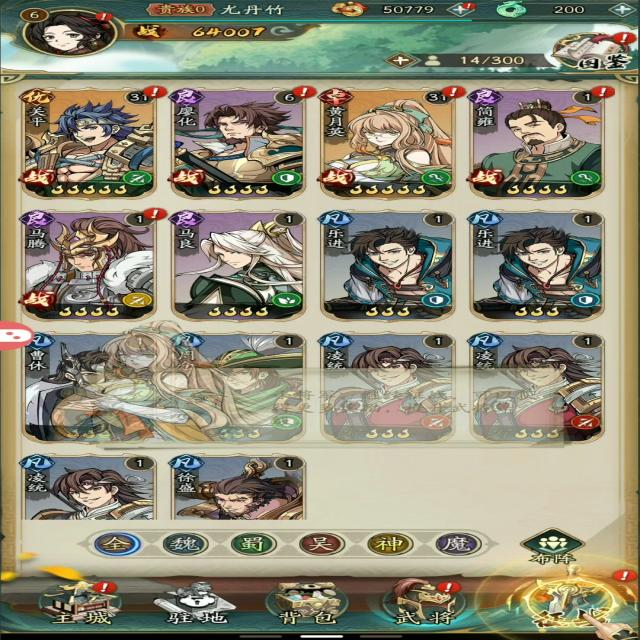hint-guide: (107, 336, 580, 445)
hint-reddot: (442, 0, 480, 15), (607, 567, 640, 584), (584, 85, 619, 101), (429, 581, 466, 596), (141, 206, 173, 222), (290, 86, 320, 100), (439, 86, 468, 100), (612, 31, 639, 46), (90, 581, 118, 595), (141, 86, 168, 100), (88, 10, 117, 22)
navigation-bag: (256, 577, 366, 627)
navigation-fight: (508, 573, 638, 633)
navigation-hero: (381, 572, 479, 628)
navigation-main: (30, 576, 133, 625)
navigation-myHeroes: (167, 86, 309, 202), (20, 86, 160, 201), (167, 212, 308, 326), (469, 87, 609, 201), (317, 92, 460, 202), (20, 213, 156, 324), (472, 218, 606, 324), (340, 220, 458, 322), (164, 452, 309, 521), (52, 456, 162, 522)
navigation-role: (15, 3, 126, 58)
navigation-station-off: (154, 574, 245, 625)
operation-HeroAddBag: (380, 51, 452, 69)
operation-Vip: (142, 0, 221, 22)
operation-camp: (427, 533, 486, 561), (364, 533, 419, 560), (225, 532, 280, 558), (294, 534, 348, 560), (94, 534, 146, 560), (162, 534, 213, 559)
operation-deployment: (517, 526, 588, 568)
operation-gallery: (546, 27, 636, 72)
